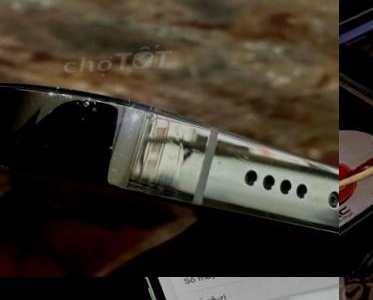scratch: (0, 77, 135, 190), (117, 96, 227, 211)
